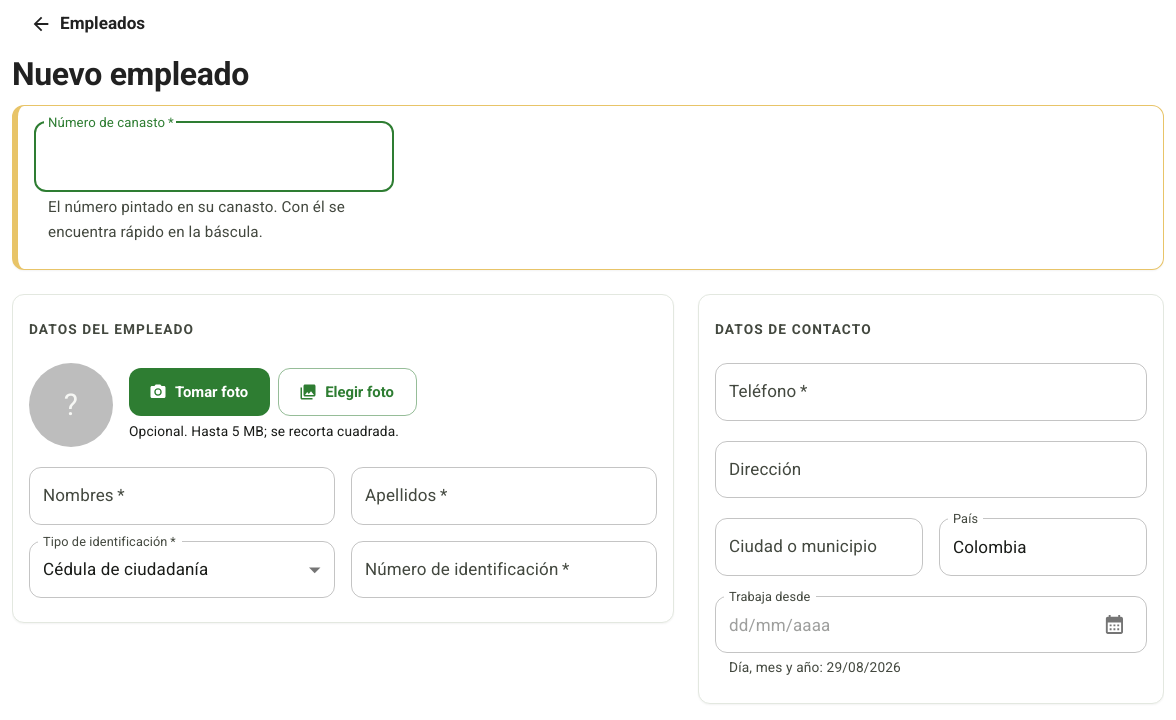
Test: before anything is sent › refuses a phone with letters in it
Type "llámeme" into the field labelled "Teléfono *". click: (931, 392)
box: [715,364,1147,421]
(page scrolled)
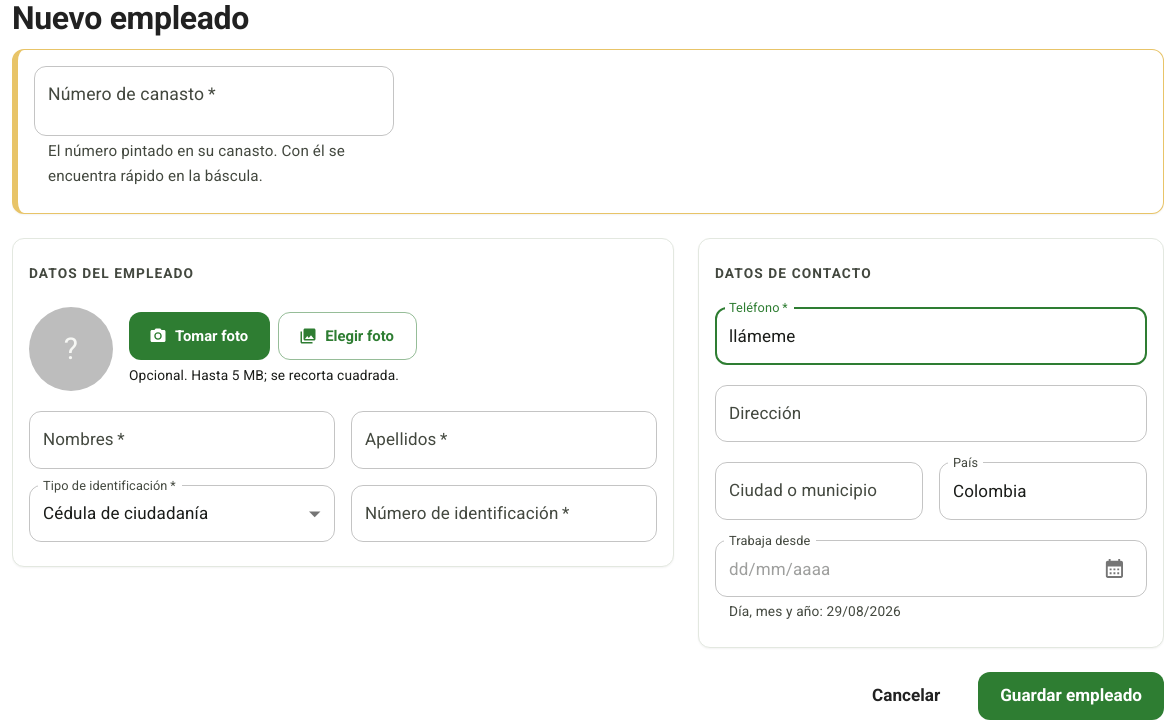
Click the button "Guardar empleado". click: (1071, 696)
box: [978,672,1164,719]
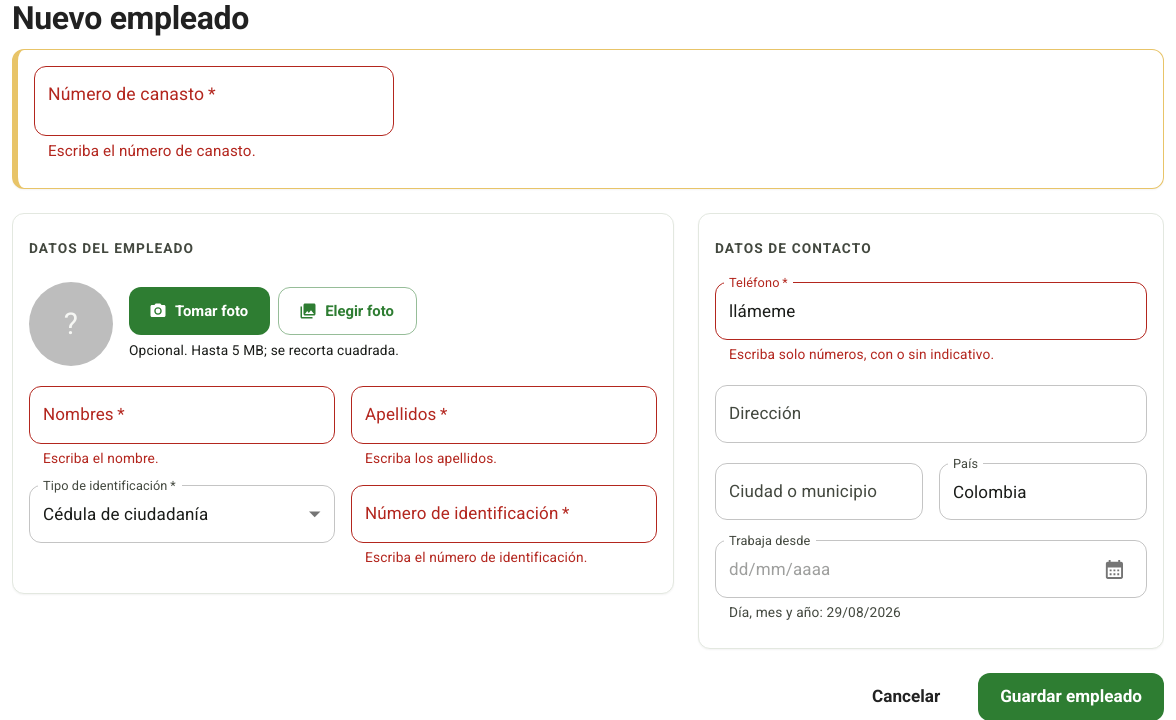
Now the text "Escriba solo números, con o sin indicativo." is shown, box [729,346,994,362]
